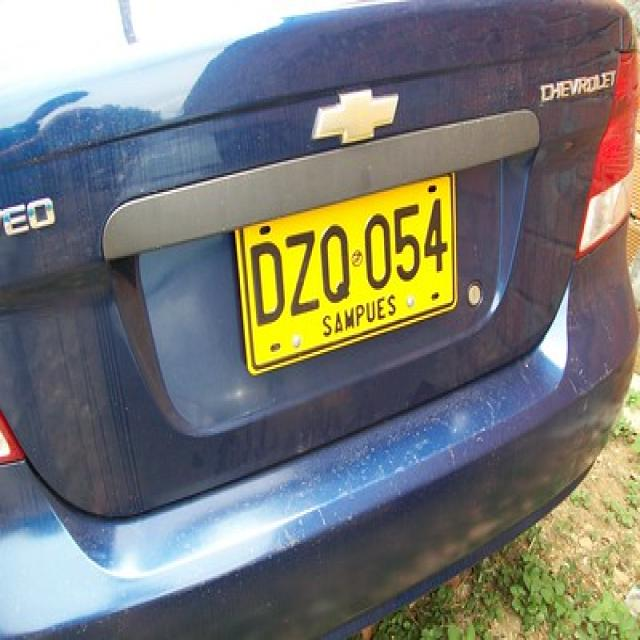placa_carro: (222, 154, 477, 402)
